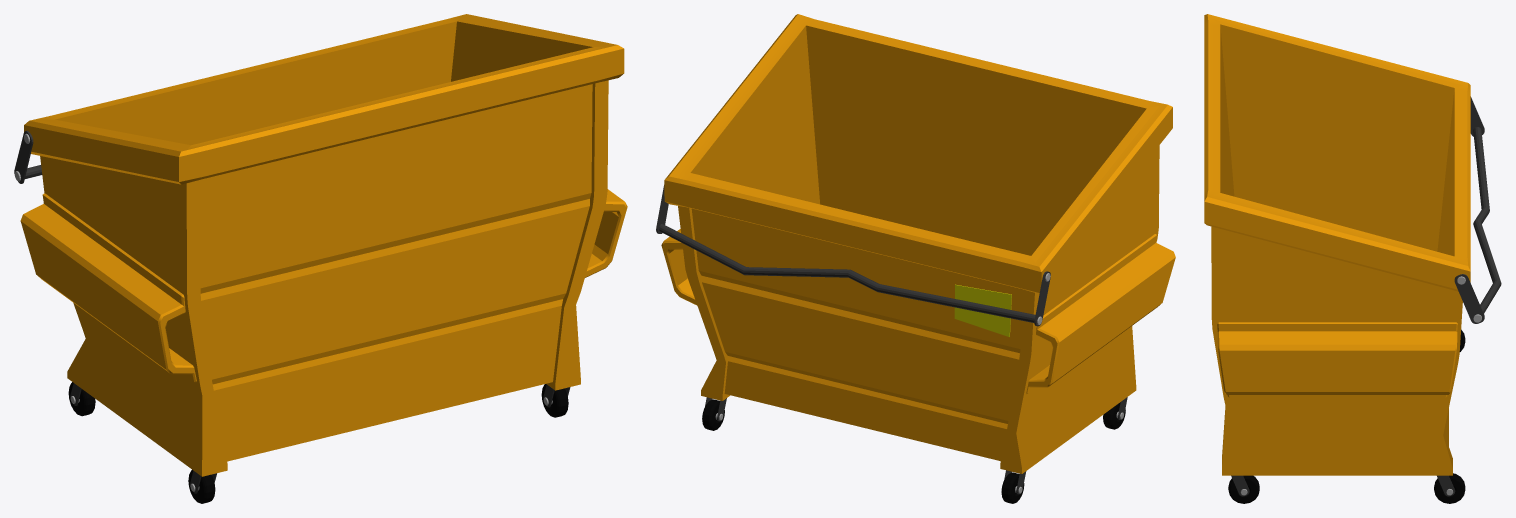
File: Dumpster.fbx
3 views of the same model, side by side, from view 1: azimuth 30°, elevation 25°; view 2: azimuth 150°, elevation 25°; view 3: azimuth 270°, elevation 25° (orthographic). The views are drawn at different scales.
Parts seen in each view (by area): view 1: Dumpster_Base; view 2: Dumpster_Base; view 3: Dumpster_Base.
Part boxes in pixels (x1,y1,x2,y2): Dumpster_Base: (14,14,627,503); Dumpster_Base: (656,14,1175,503); Dumpster_Base: (1204,14,1501,503).
Bounding box in the file's own units: 14.02 × 10.73 × 8.95.
